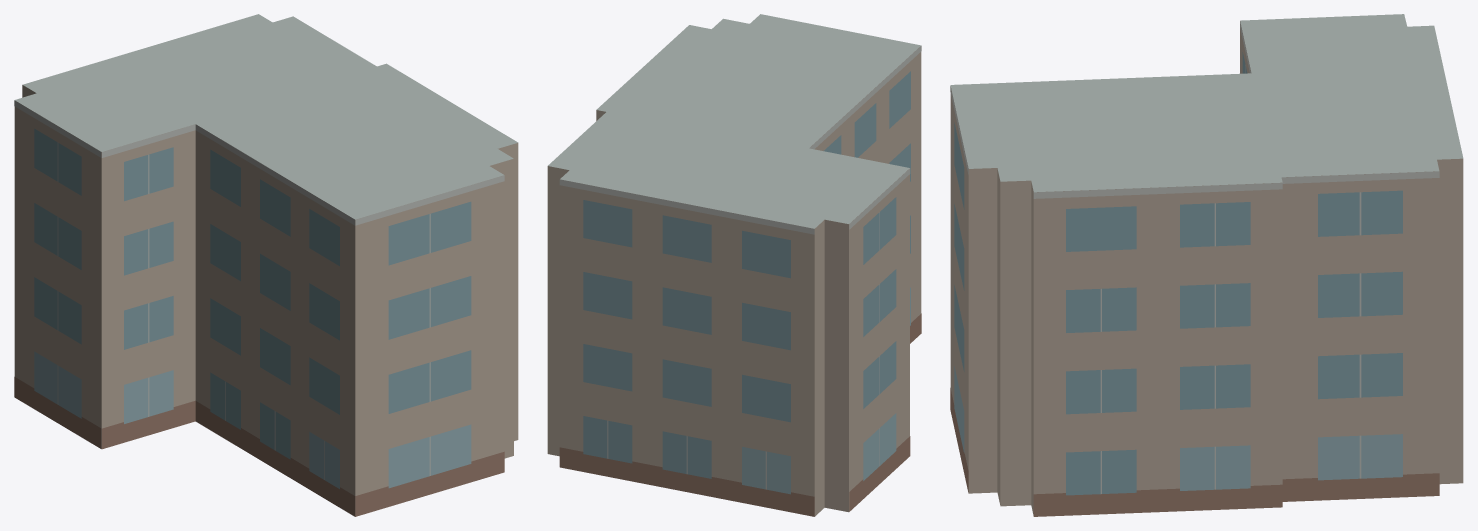
File: survey-upis-33041694.glb
3 views of the same model, side by side, from view 1: azimuth 30°, elevation 25°; view 2: azimuth 150°, elevation 25°; view 3: azimuth 270°, elevation 25° (orthographic). The views are drawn at different scales.
Visible parts, largest first — view 1: survey-upis-33041694.tmp; view 2: survey-upis-33041694.tmp; view 3: survey-upis-33041694.tmp.
Boxes of the visible parts, x1,y1,x2,y2 form: survey-upis-33041694.tmp: (14,14,518,516); survey-upis-33041694.tmp: (547,14,921,516); survey-upis-33041694.tmp: (950,14,1463,516).
Size of the model in its own units: 14.02 by 11.9 by 17.05.
